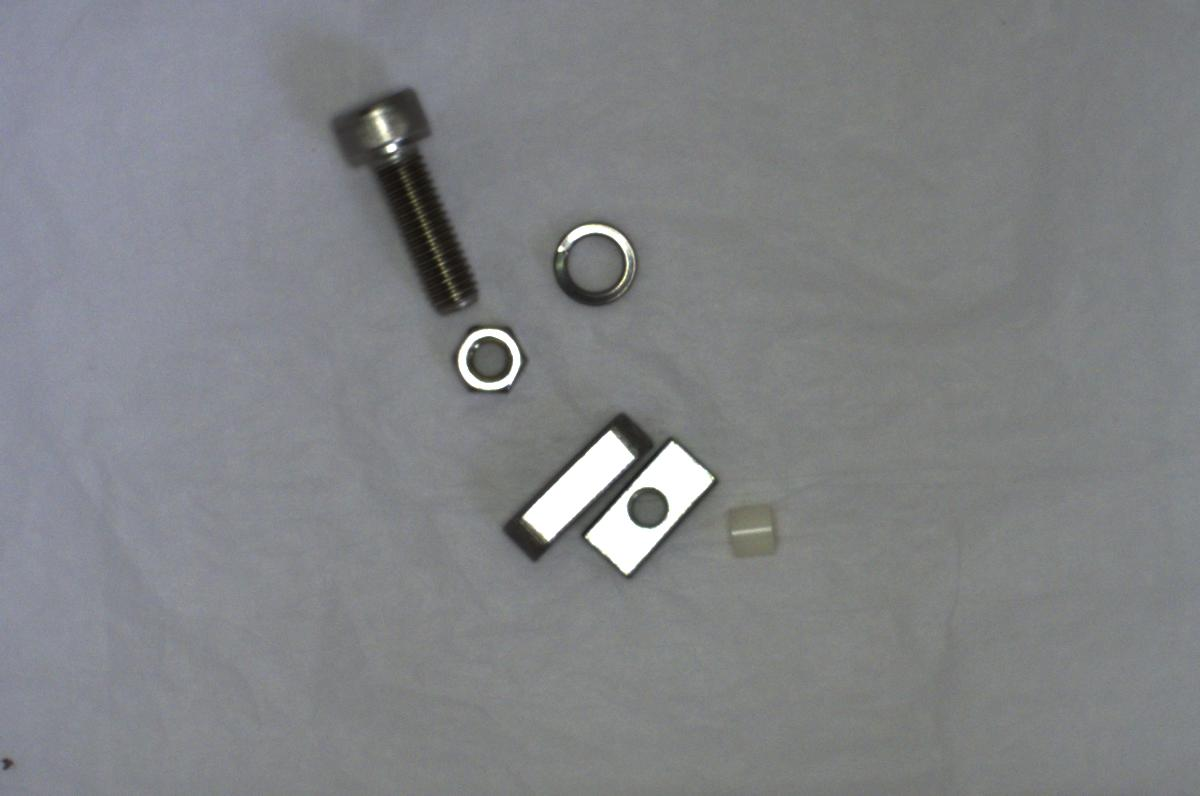Hexagon nut: (451, 320, 534, 398)
Hexagon screw: (320, 74, 482, 320)
Keybar: (507, 407, 657, 556)
Plastic cushion pillar: (722, 489, 790, 566)
Rectangular nut: (579, 441, 718, 576)
Spring washer: (545, 213, 639, 303)
